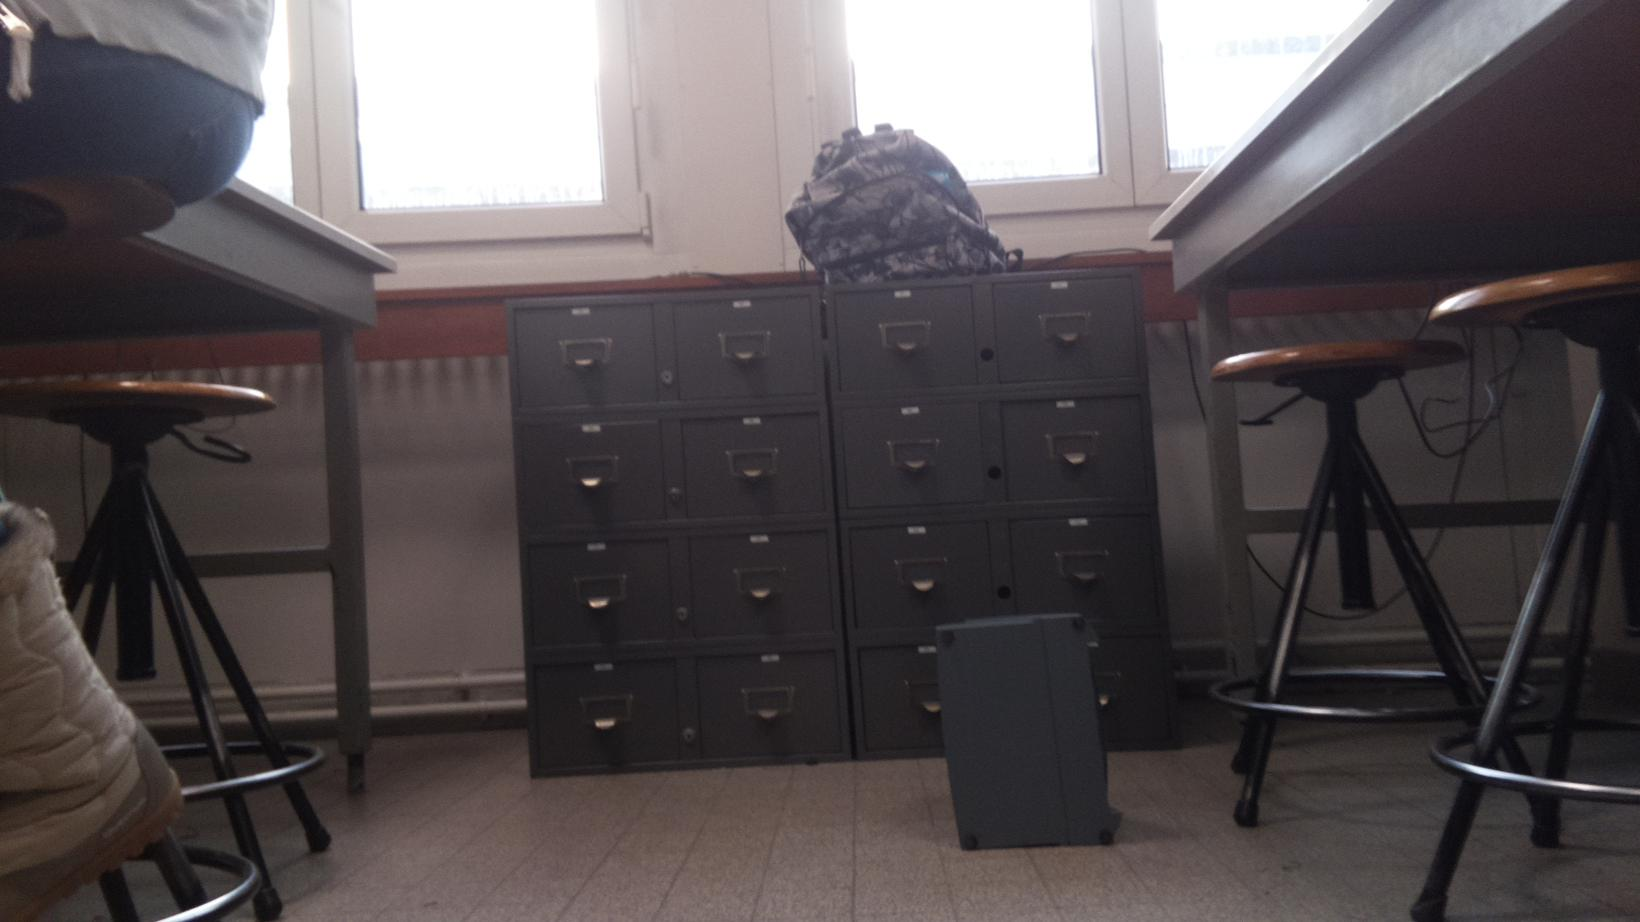big: (794, 129, 993, 272)
medium: (934, 614, 1120, 851)
